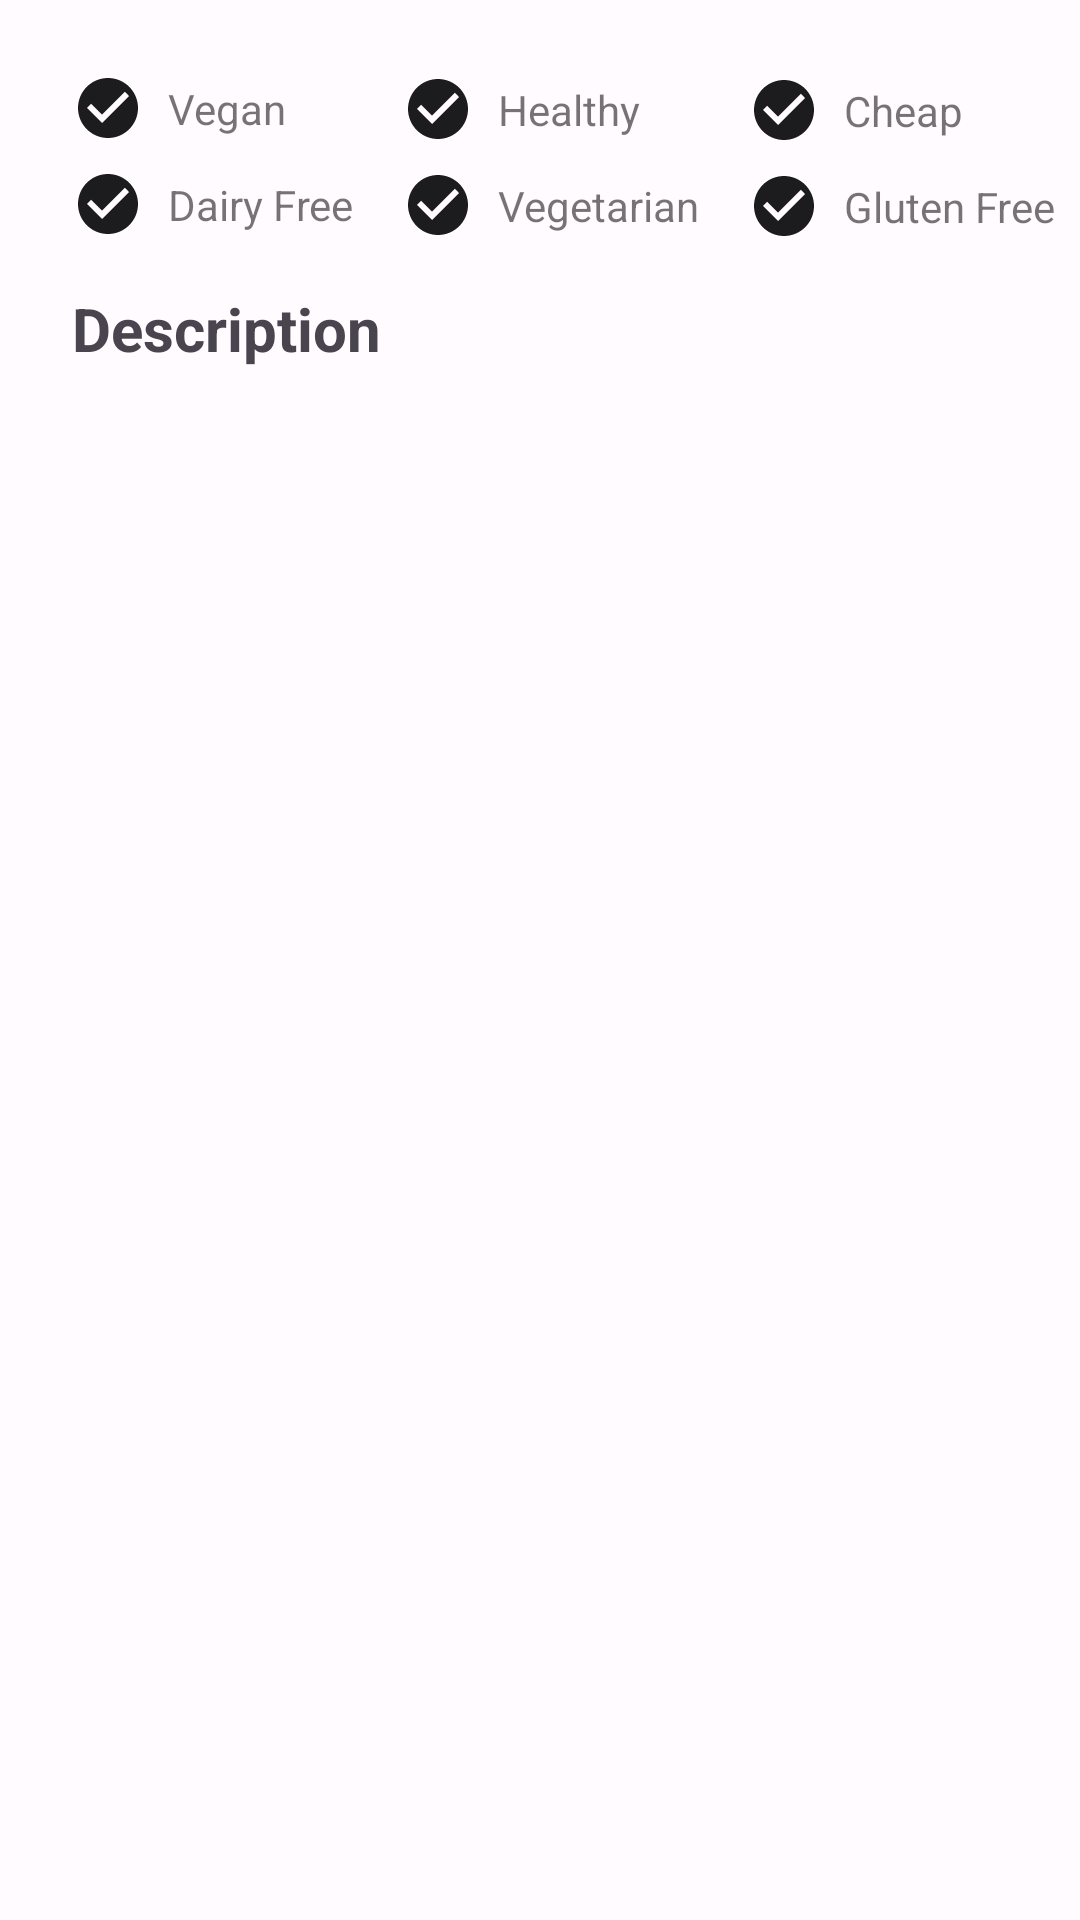

Screen size 1080*1920. Icon name, then its box in pixels as bbox=[x1, y1, x2, y2]:
Icon Checkbox Circle: bbox=[78, 78, 138, 138], bbox=[408, 79, 468, 139], bbox=[754, 80, 814, 140], bbox=[78, 174, 138, 234], bbox=[408, 175, 468, 235], bbox=[754, 176, 814, 236]
